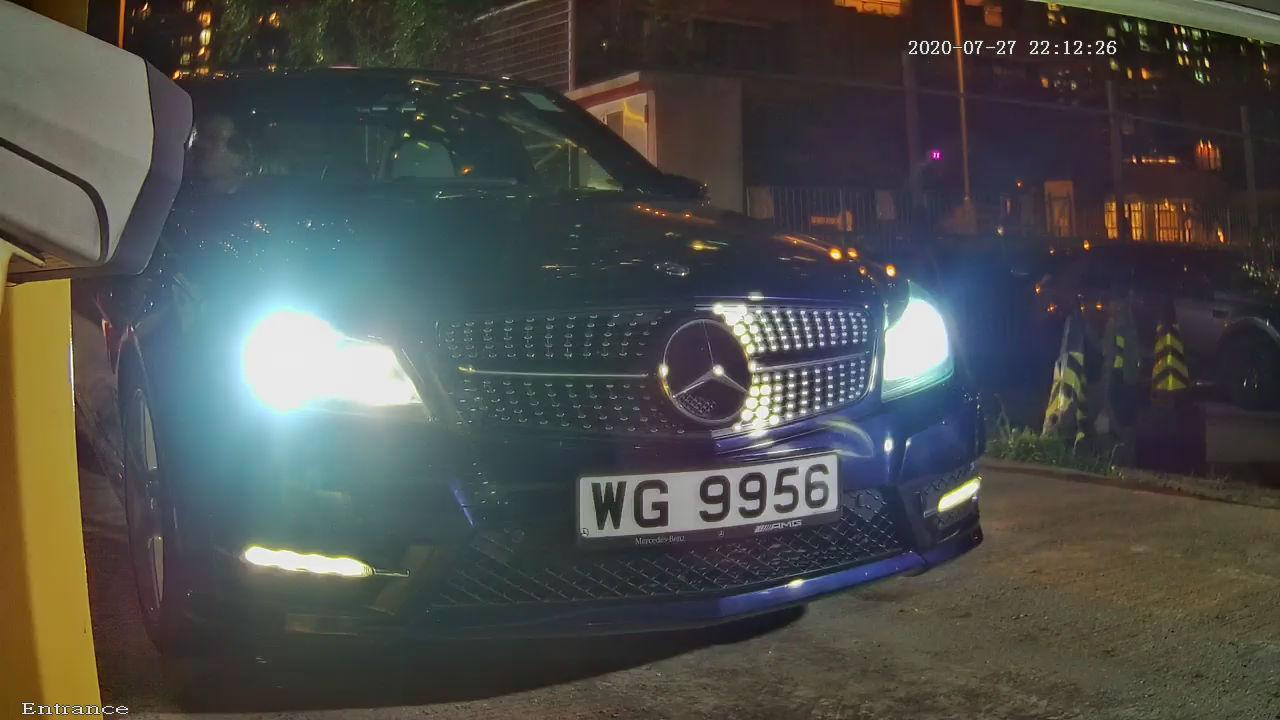privatecar: (75, 10, 1046, 692)
